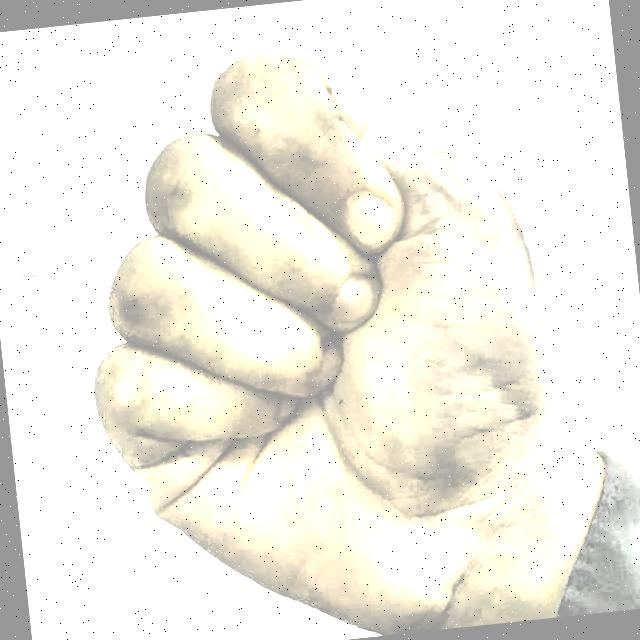To: (33, 2, 613, 640)
